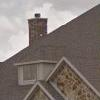Chimney: (22, 9, 52, 46)
